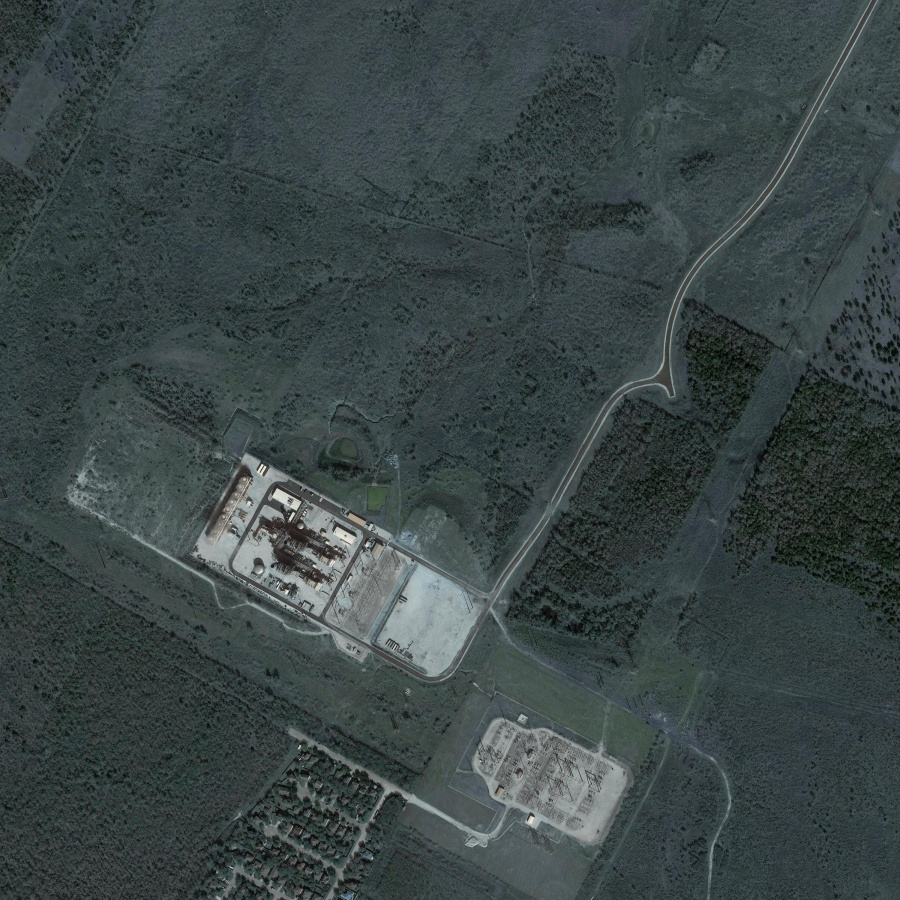PowerPlant: (196, 456, 406, 646), (470, 702, 616, 838)
